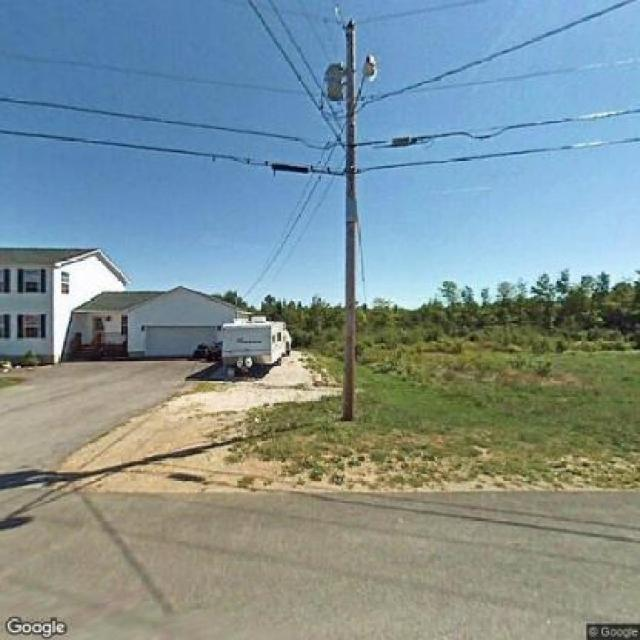pole: (314, 14, 392, 420)
